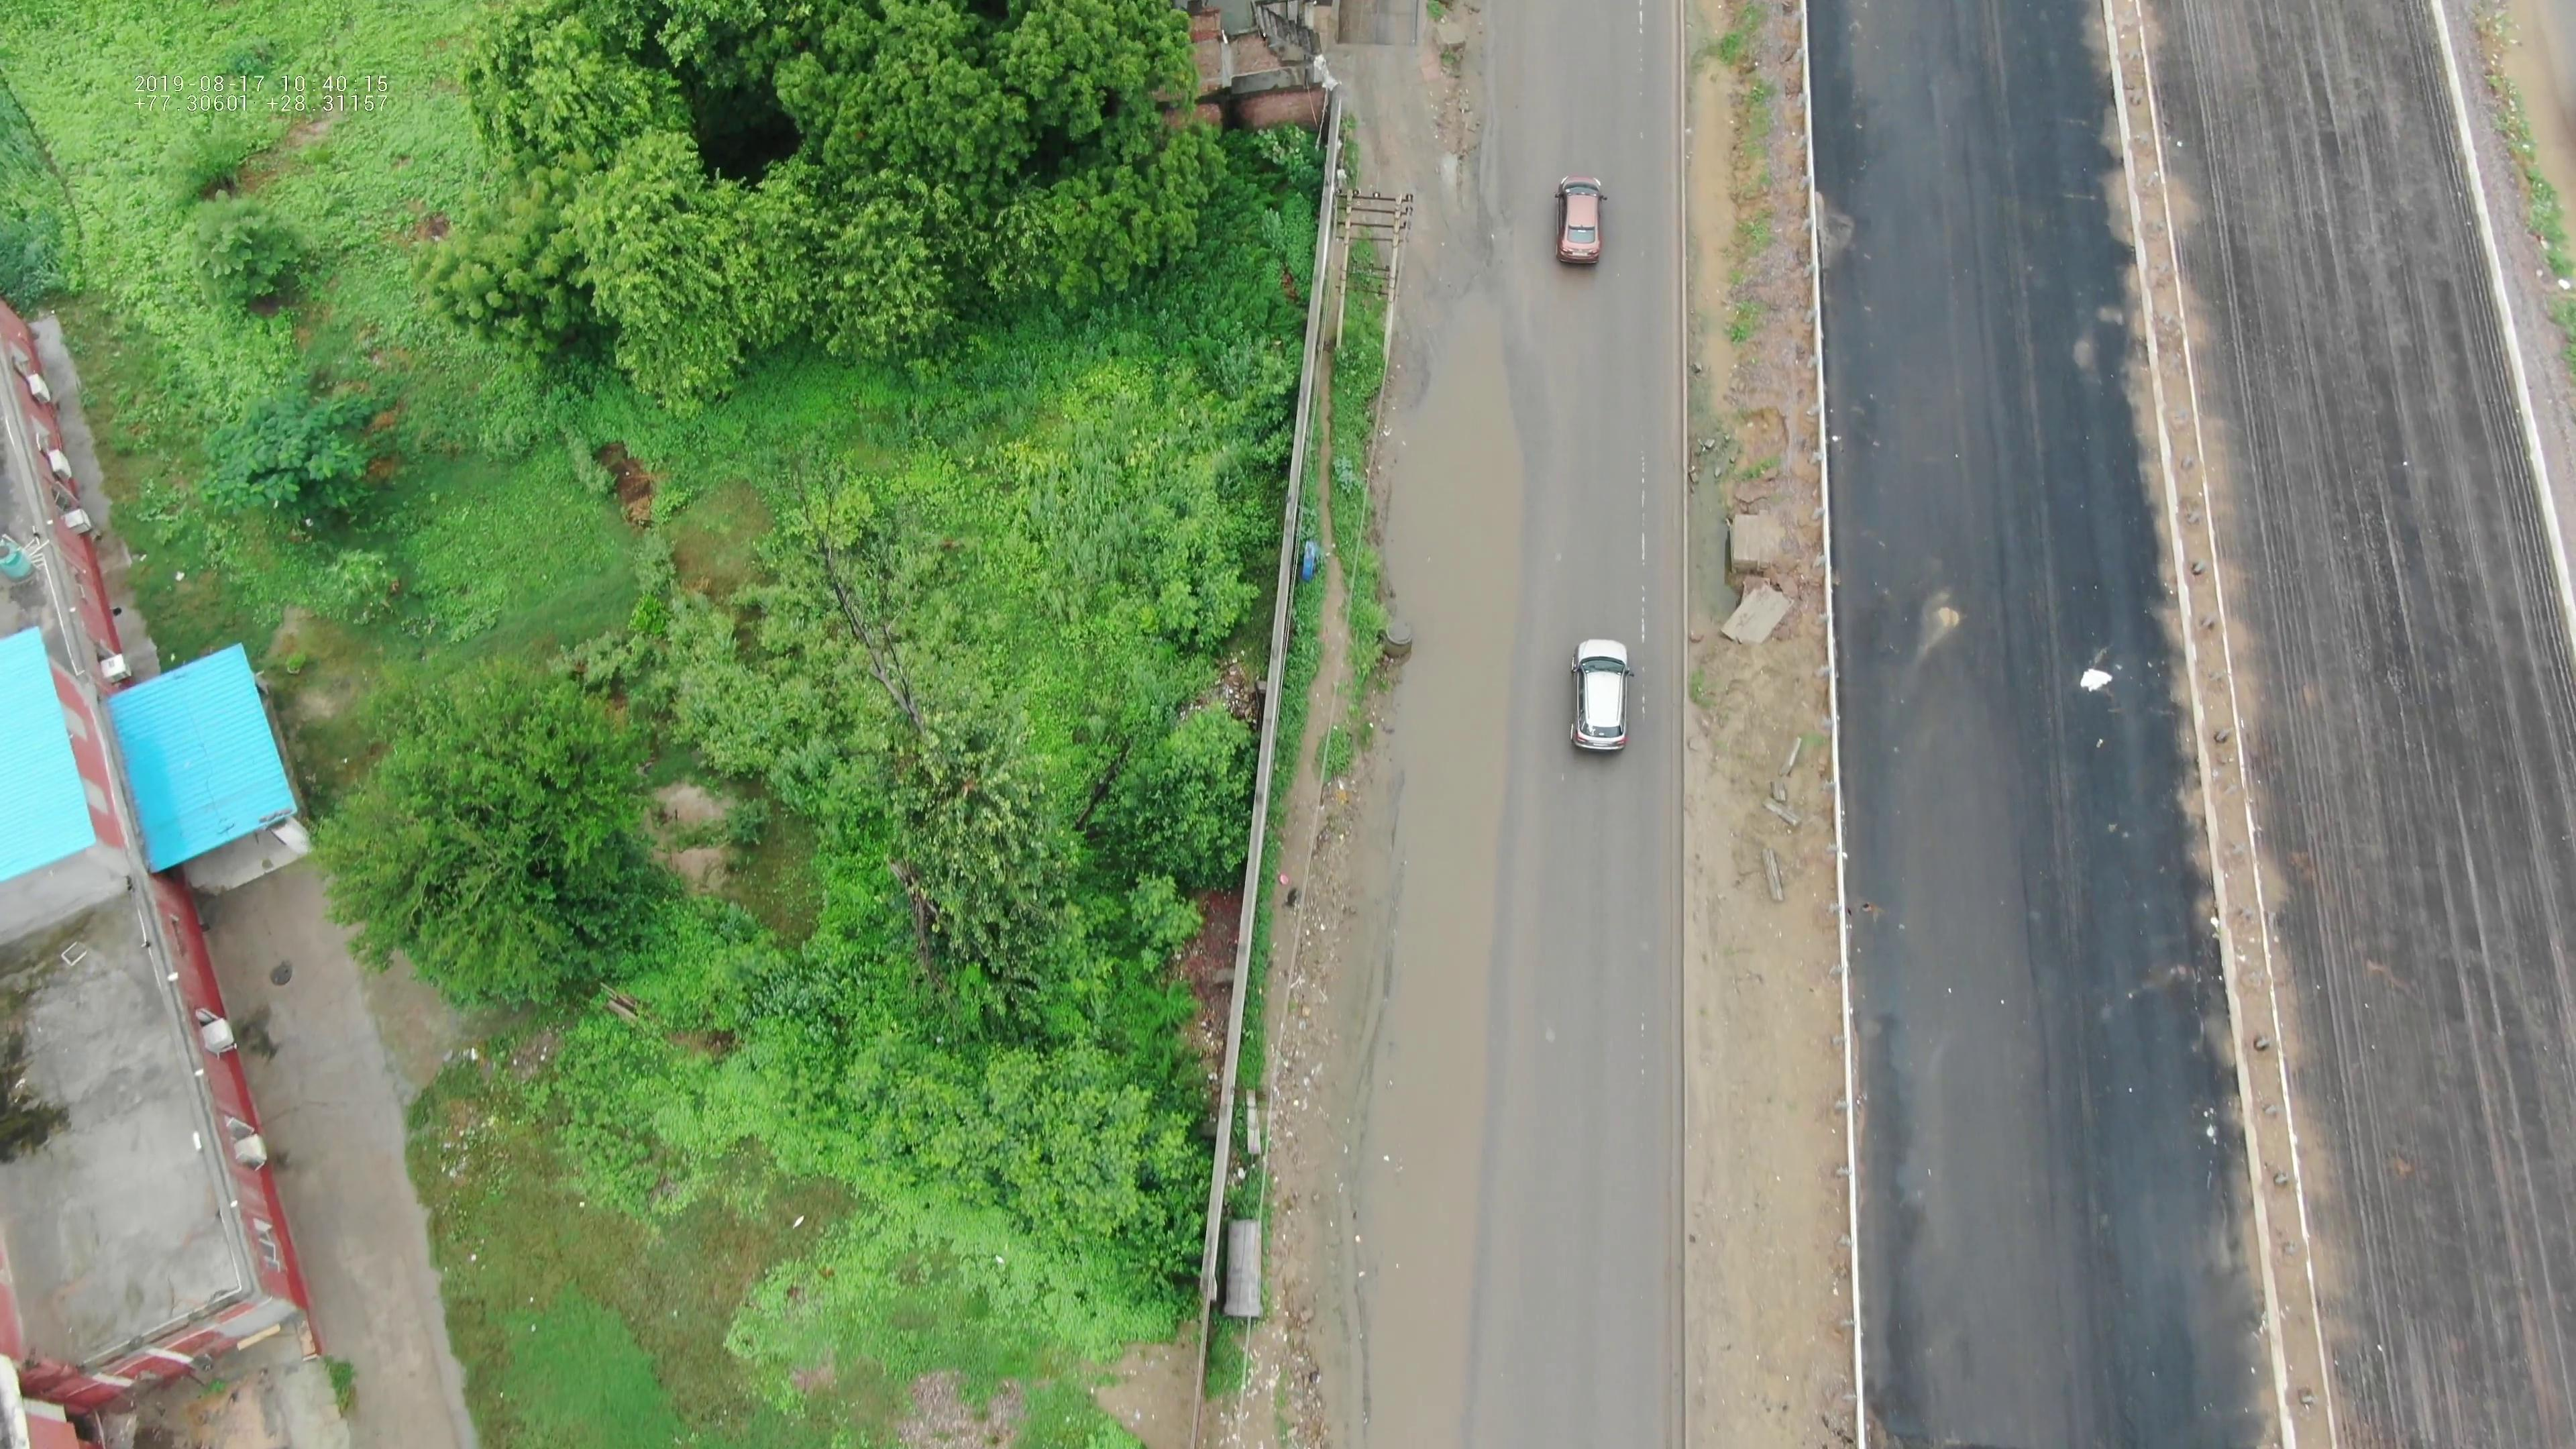Waterlogging: (1350, 280, 1541, 922), (1350, 901, 1513, 1440)
